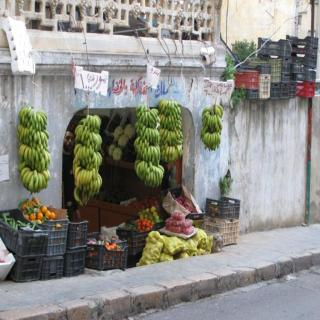Banana: (66, 114, 104, 210), (18, 106, 50, 193), (134, 105, 164, 188), (156, 100, 182, 162), (200, 104, 223, 151)
